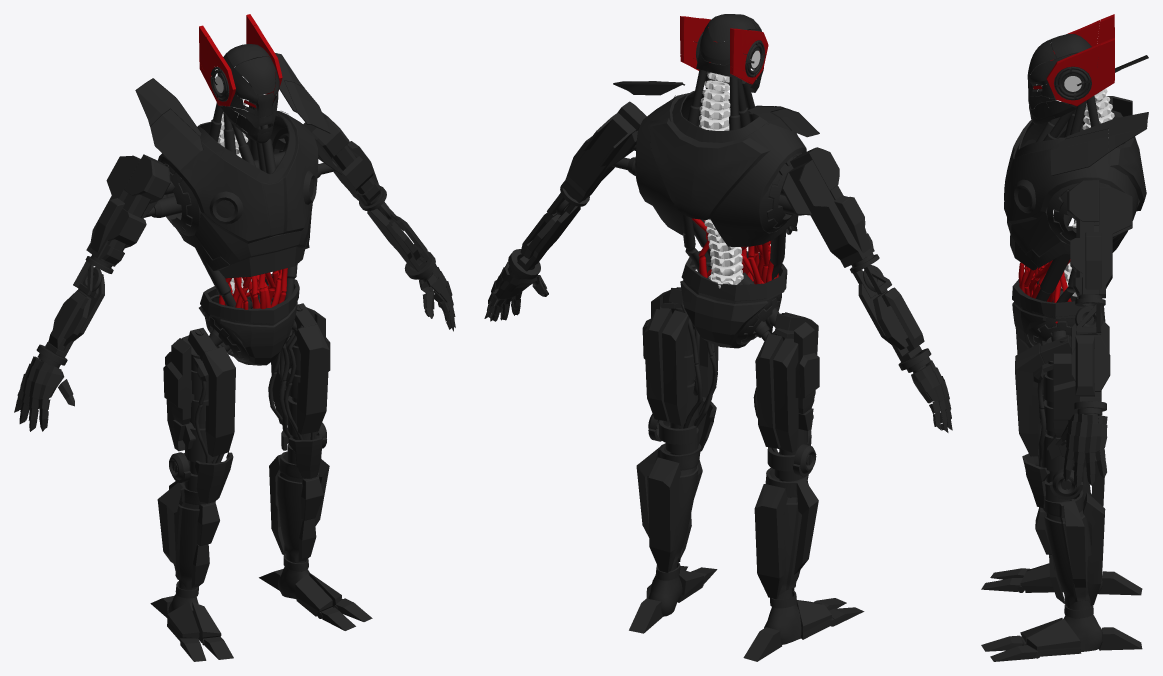
File: level_one_boss 2.fbx
3 views of the same model, side by side, from view 1: azimuth 30°, elevation 25°; view 2: azimuth 150°, elevation 25°; view 3: azimuth 270°, elevation 25° (orthographic). The views are drawn at different scales.
Visible parts, largest first — view 1: Robot_Enemy; view 2: Robot_Enemy; view 3: Robot_Enemy.
Boxes of the visible parts, box(x1,y1,x2,y2) form: Robot_Enemy: box(14, 14, 455, 661); Robot_Enemy: box(484, 14, 952, 661); Robot_Enemy: box(981, 14, 1148, 661).
Size of the model in its own units: 1455 by 1861 by 478.
